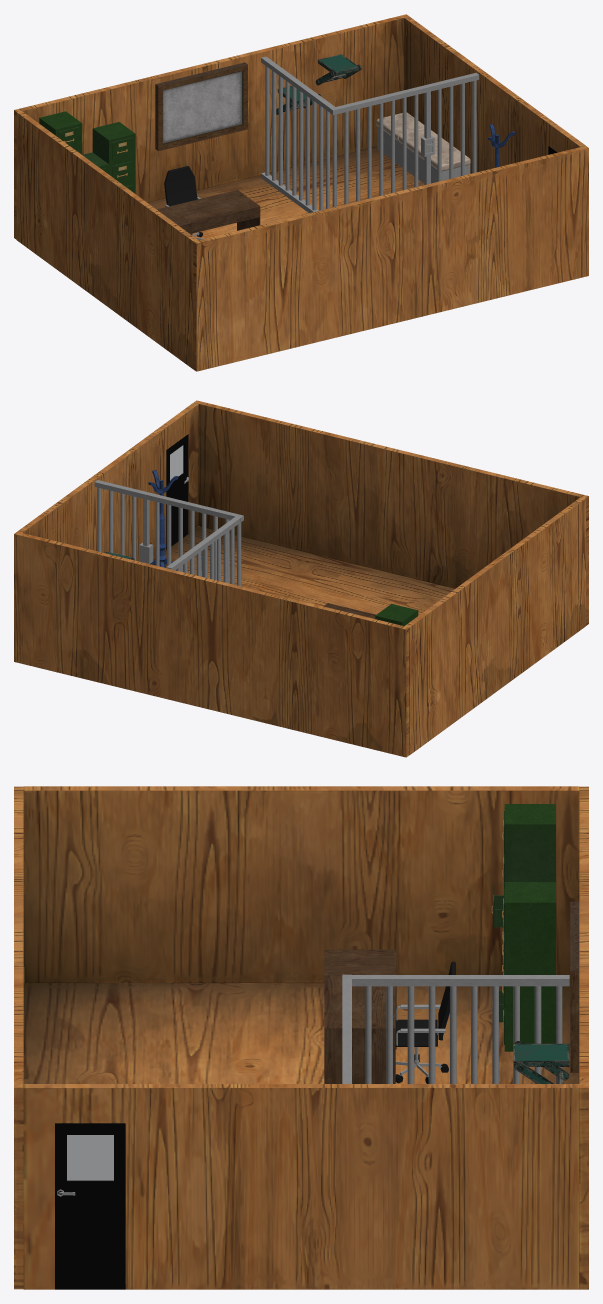
Rendered from sheriff's office.fbx.
3 views of the same model, one above another, from view 1: azimuth 30°, elevation 25°; view 2: azimuth 150°, elevation 25°; view 3: azimuth 270°, elevation 25° (orthographic). The views are drawn at different scales.
Parts seen in each view (by area): view 1: wall1, wall2, wall4, jail, wall_door, board, floor, lockers, table, bed, chair, shelf2; view 2: wall2, wall1, wall4, wall_door, floor, jail, door, hanger, lockers; view 3: wall_door, wall4, floor, lockers, door, jail, table, wall1, wall2, chair, shelf2, board.
Part boxes in pixels (<box>): wall1: <box>193,146,588,371</box>; wall2: <box>14,14,409,239</box>; wall4: <box>16,111,197,368</box>; jail: <box>261,56,479,213</box>; wall_door: <box>404,16,585,173</box>; board: <box>155,62,247,151</box>; floor: <box>148,147,424,240</box>; lockers: <box>39,111,135,193</box>; table: <box>157,190,260,235</box>; bed: <box>376,112,470,183</box>; chair: <box>164,166,203,239</box>; shelf2: <box>276,54,361,114</box>; wall2: <box>14,532,409,757</box>; wall1: <box>194,400,588,625</box>; wall4: <box>404,497,585,755</box>; wall_door: <box>17,402,198,561</box>; floor: <box>153,526,454,615</box>; jail: <box>94,480,243,586</box>; door: <box>166,434,188,549</box>; hanger: <box>148,470,178,570</box>; lockers: <box>375,603,418,625</box>; wall_door: <box>23,1084,579,1289</box>; wall4: <box>23,786,579,982</box>; floor: <box>23,983,579,1083</box>; lockers: <box>491,804,555,1051</box>; door: <box>55,1123,125,1289</box>; jail: <box>342,974,569,1083</box>; table: <box>324,949,396,1083</box>; wall1: <box>14,786,23,1289</box>; wall2: <box>579,786,588,1289</box>; chair: <box>395,961,455,1083</box>; shelf2: <box>513,1041,569,1083</box>; board: <box>570,902,579,1072</box>.
Bounding box in the file's own units: 12.92 × 4 × 10.35.
